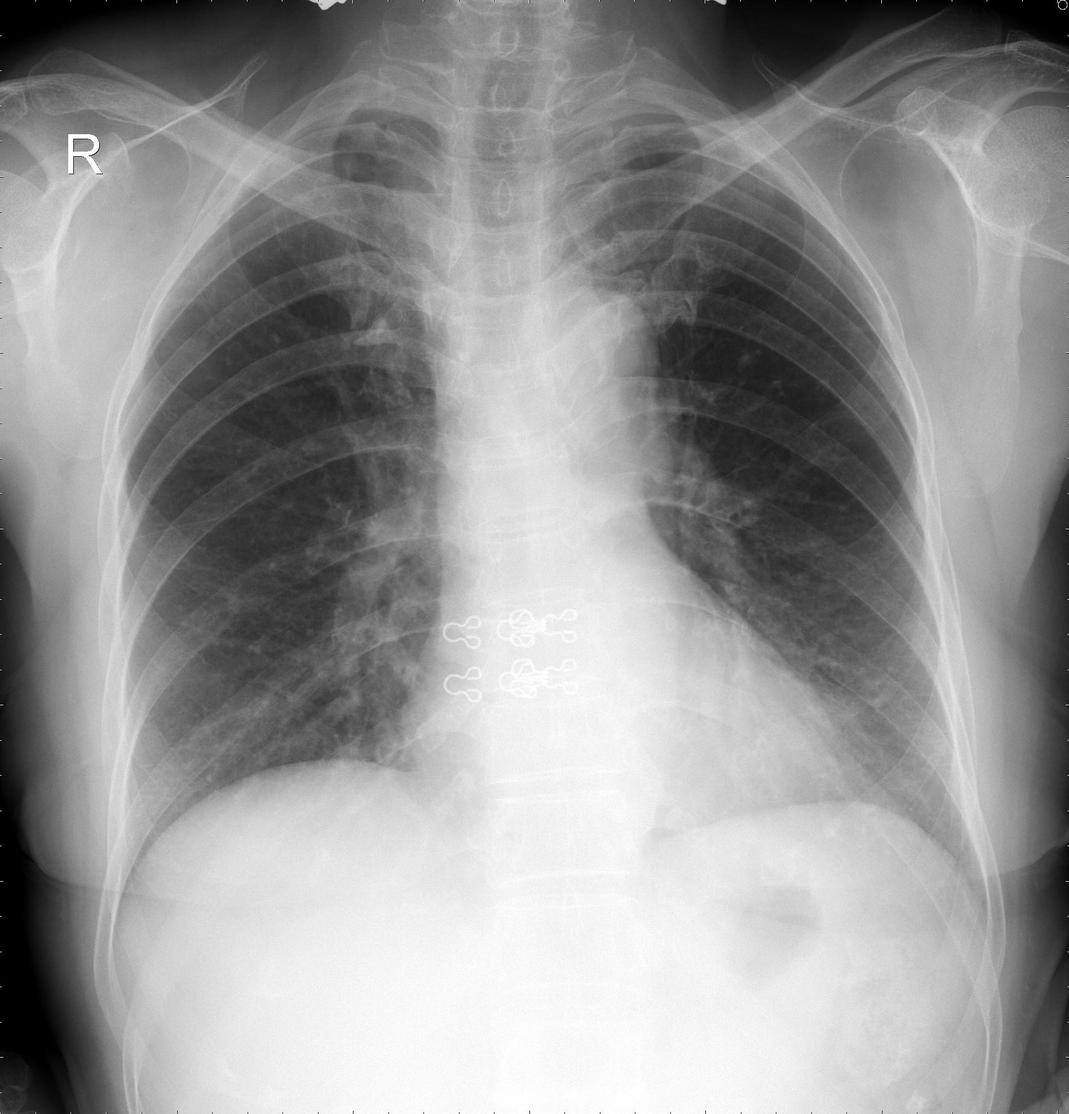Aortic enlargement: (536, 289, 670, 438)
